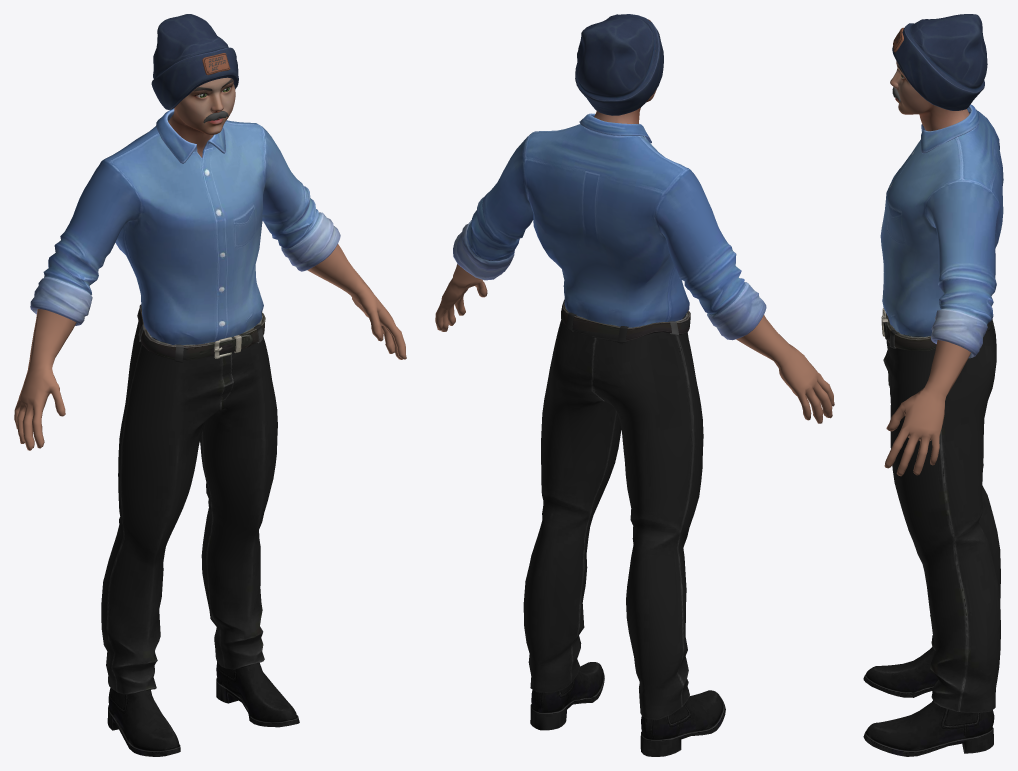
Rendered from JudgeJordan.fbx.
3 views of the same model, side by side, from view 1: azimuth 30°, elevation 25°; view 2: azimuth 150°, elevation 25°; view 3: azimuth 270°, elevation 25° (orthographic).
Visible parts, largest first — view 1: Wolf3D_Outfit_Bottom, Wolf3D_Outfit_Top, Wolf3D_Body, Wolf3D_Outfit_Footwear, Wolf3D_Headwear, Wolf3D_Head; view 2: Wolf3D_Outfit_Bottom, Wolf3D_Outfit_Top, Wolf3D_Headwear, Wolf3D_Outfit_Footwear, Wolf3D_Body; view 3: Wolf3D_Outfit_Bottom, Wolf3D_Outfit_Top, Wolf3D_Headwear, Wolf3D_Outfit_Footwear, Wolf3D_Body, Wolf3D_Head.
Boxes of the visible parts, left/top/right/bottom form: Wolf3D_Outfit_Bottom: left=101, top=304, right=277, bottom=694; Wolf3D_Outfit_Top: left=30, top=108, right=340, bottom=344; Wolf3D_Body: left=14, top=244, right=406, bottom=450; Wolf3D_Outfit_Footwear: left=107, top=662, right=299, bottom=756; Wolf3D_Headwear: left=151, top=14, right=238, bottom=109; Wolf3D_Head: left=168, top=77, right=235, bottom=157; Wolf3D_Outfit_Bottom: left=523, top=299, right=703, bottom=719; Wolf3D_Outfit_Top: left=453, top=113, right=766, bottom=340; Wolf3D_Headwear: left=575, top=14, right=663, bottom=115; Wolf3D_Outfit_Footwear: left=530, top=662, right=725, bottom=756; Wolf3D_Body: left=435, top=264, right=834, bottom=423; Wolf3D_Outfit_Bottom: left=881, top=308, right=1000, bottom=712; Wolf3D_Outfit_Top: left=880, top=104, right=1003, bottom=358; Wolf3D_Headwear: left=892, top=14, right=987, bottom=110; Wolf3D_Outfit_Footwear: left=863, top=647, right=994, bottom=756; Wolf3D_Body: left=884, top=340, right=970, bottom=476; Wolf3D_Head: left=890, top=61, right=969, bottom=131.
Bounding box in the file's own units: 1.06 × 1.86 × 0.3371.
Materials: 9 (9 with a texture image).
